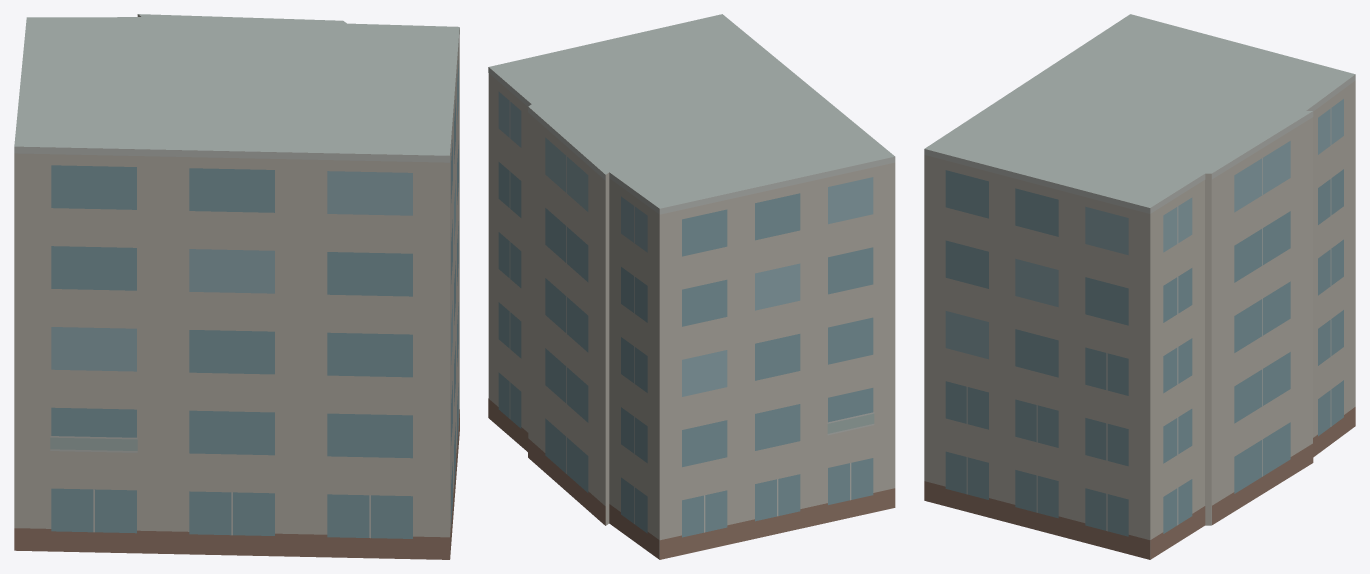
The model's file is survey-upis-32883287.glb.
3 renders of one model, left to right at view 1: azimuth 30°, elevation 25°; view 2: azimuth 150°, elevation 25°; view 3: azimuth 270°, elevation 25°, orthographic. The views are drawn at different scales.
Parts seen in each view (by area): view 1: survey-upis-32883287.tmp; view 2: survey-upis-32883287.tmp; view 3: survey-upis-32883287.tmp.
Part boxes in pixels (bbox=[...]): survey-upis-32883287.tmp: bbox=[14, 14, 459, 559]; survey-upis-32883287.tmp: bbox=[488, 14, 895, 559]; survey-upis-32883287.tmp: bbox=[924, 14, 1355, 559].
Bounding box in the file's own units: 17.1 × 14.45 × 16.06.
